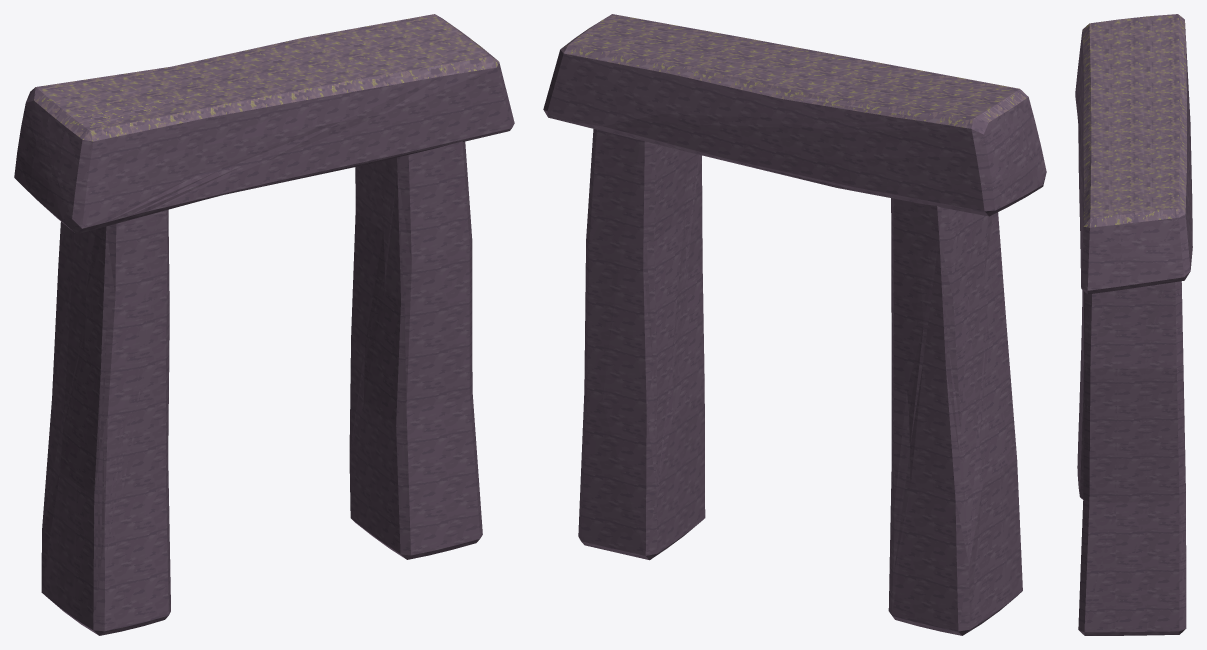
The model's file is G01_Stone_frame.fbx.
3 renders of one model, left to right at view 1: azimuth 30°, elevation 25°; view 2: azimuth 150°, elevation 25°; view 3: azimuth 270°, elevation 25°, orthographic. The views are drawn at different scales.
Visible parts, largest first — view 1: G01_lintel, G01_post_r, G01_post_l; view 2: G01_lintel, G01_post_l, G01_post_r; view 3: G01_post_r, G01_lintel, G01_post_l.
Part boxes in pixels (x1,y1,x2,y2): G01_lintel: [14, 14, 514, 234]; G01_post_r: [349, 141, 482, 559]; G01_post_l: [41, 209, 170, 635]; G01_lintel: [543, 14, 1046, 216]; G01_post_l: [888, 198, 1022, 635]; G01_post_r: [578, 129, 705, 560]; G01_post_r: [1078, 281, 1186, 635]; G01_lintel: [1075, 14, 1192, 294]; G01_post_l: [1077, 290, 1085, 499].
Bounding box in the file's own units: 2.78 × 3.05 × 0.7114.
